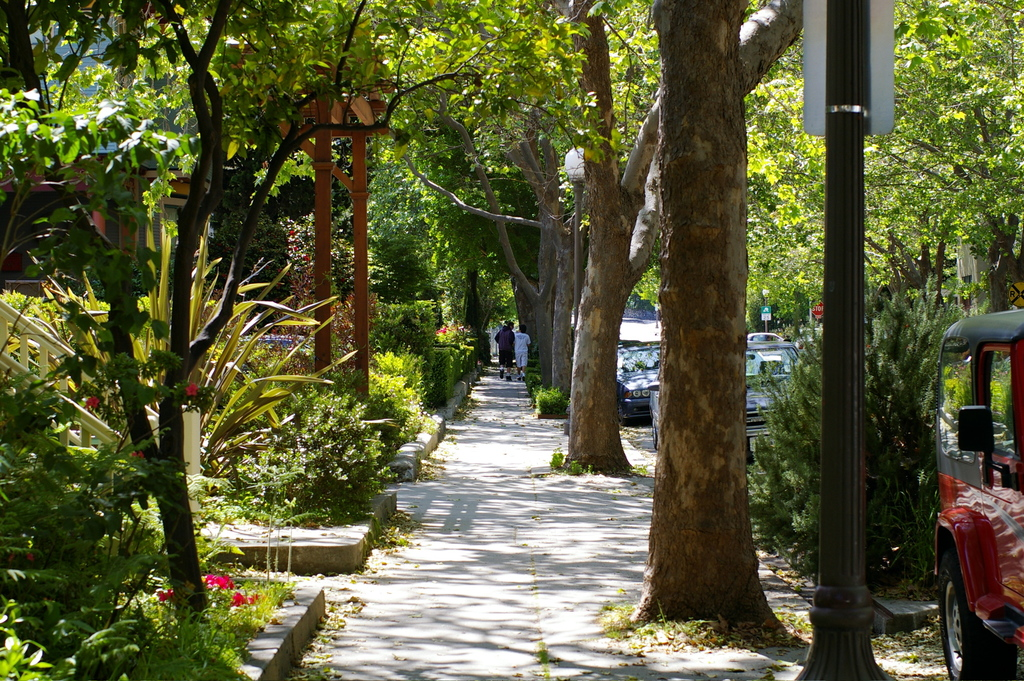Car: (928, 311, 1023, 676), (745, 337, 798, 458), (614, 327, 659, 423)
